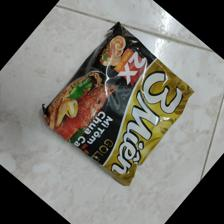3mien: (42, 21, 196, 188)
